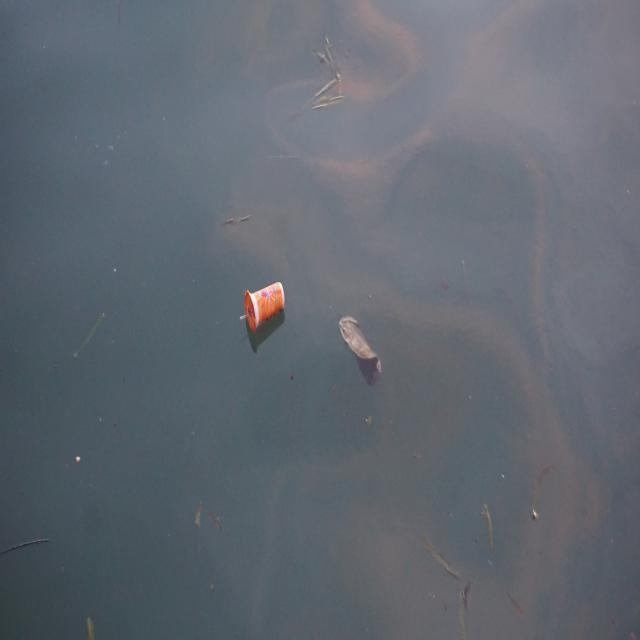Bungkus Minuman: (239, 282, 289, 341)
